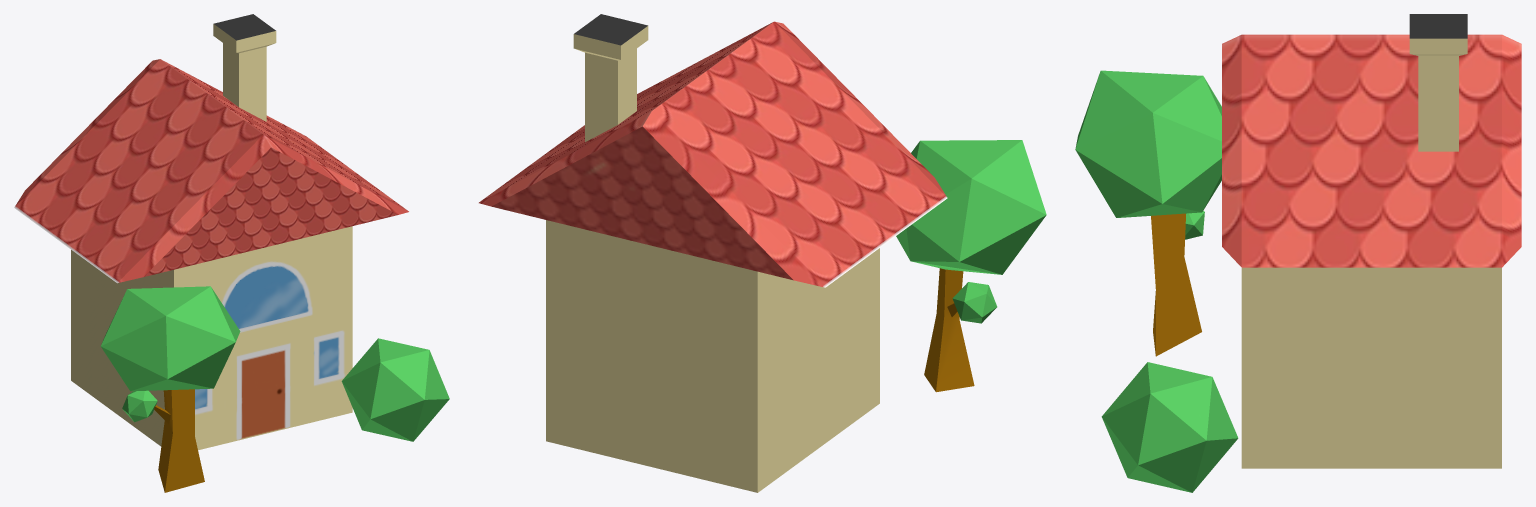
Rendered from House.fbx.
The picture shows the model from 3 angles, left to right: view 1: azimuth 30°, elevation 25°; view 2: azimuth 150°, elevation 25°; view 3: azimuth 270°, elevation 25°; orthographic projection. The views are drawn at different scales.
Visible parts, largest first — view 1: pCube1, pPlatonic4, pPlatonic1, pCube2; view 2: pCube1, pPlatonic4, pCube2; view 3: pCube1, pPlatonic4, pPlatonic1, pCube2.
Boxes of the visible parts, bbox=[...] form: pCube1: bbox=[14, 59, 408, 450]; pPlatonic4: bbox=[100, 286, 240, 492]; pPlatonic1: bbox=[341, 338, 449, 441]; pCube2: bbox=[213, 14, 276, 121]; pCube1: bbox=[479, 21, 947, 492]; pPlatonic4: bbox=[896, 140, 1046, 392]; pCube2: bbox=[573, 14, 648, 141]; pCube1: bbox=[1222, 34, 1521, 468]; pPlatonic4: bbox=[1075, 70, 1221, 356]; pPlatonic1: bbox=[1101, 362, 1238, 492]; pCube2: bbox=[1409, 14, 1467, 151].
Bounding box in the file's own units: 7.16 × 6.71 × 6.4.
